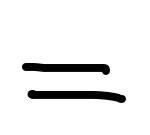eqv: (22, 63, 126, 103)
